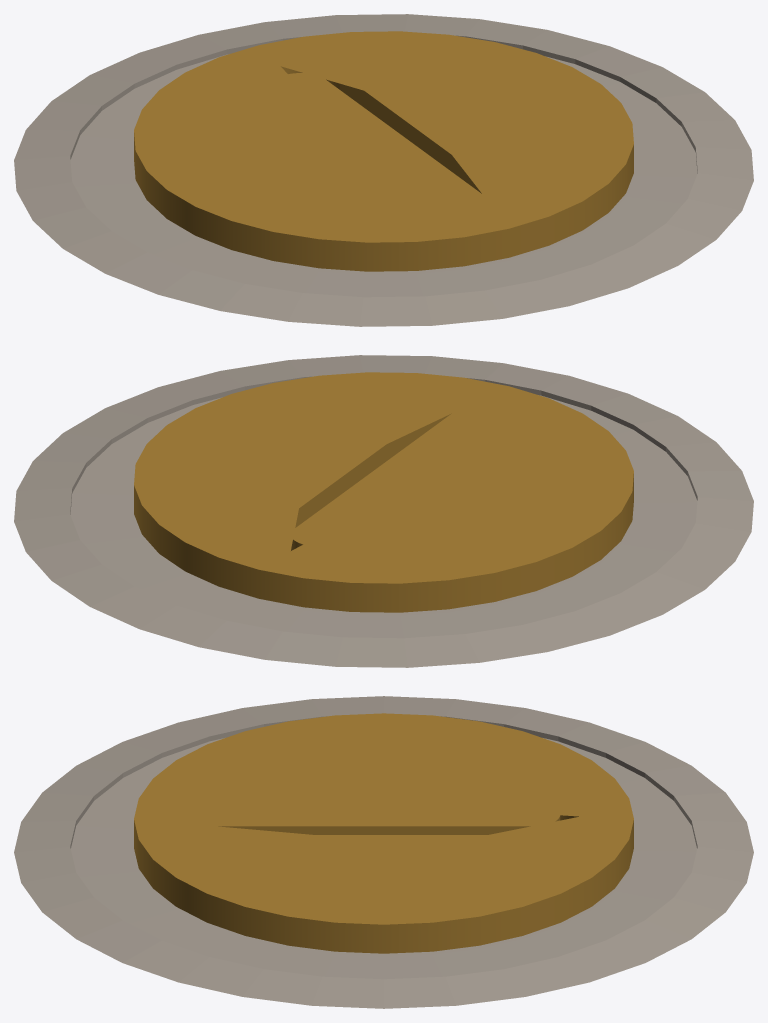
Rendered from WindButton.fbx.
3 views of the same model, one above another, from view 1: azimuth 30°, elevation 25°; view 2: azimuth 150°, elevation 25°; view 3: azimuth 270°, elevation 25° (orthographic).
Visible parts, largest first — view 1: OriginalButton2, OriginalButton3; view 2: OriginalButton2, OriginalButton3; view 3: OriginalButton2, OriginalButton3.
Boxes of the visible parts, x1,y1,x2,y2 form: OriginalButton2: (134,31,633,271); OriginalButton3: (14,14,753,326); OriginalButton2: (134,372,633,612); OriginalButton3: (14,355,753,667); OriginalButton2: (134,713,633,953); OriginalButton3: (14,696,753,1008).
Size of the model in its own units: 200 by 9.97 by 200.
